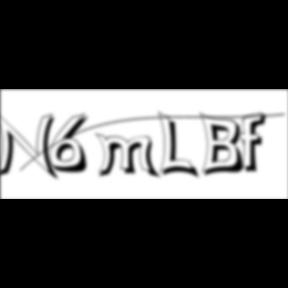6: (50, 112, 96, 176)
B: (200, 111, 250, 179)
L: (158, 110, 202, 182)
N: (0, 109, 64, 183)
f: (240, 111, 272, 175)
m: (95, 132, 163, 181)
